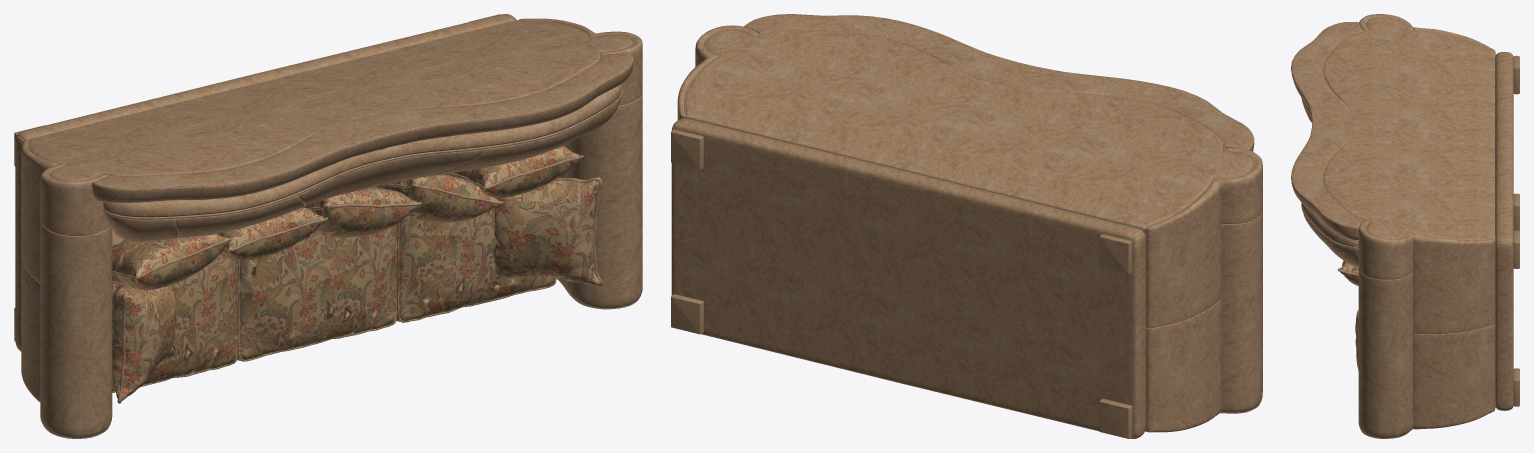
The model's file is sofa.obj.
3 views of the same model, side by side, from view 1: azimuth 30°, elevation 25°; view 2: azimuth 150°, elevation 25°; view 3: azimuth 270°, elevation 25° (orthographic). The views are drawn at different scales.
Visible parts, largest first — view 1: Box027, Box023, Box022, Object130, Box025, Object125, Object126, Object128, Object129, Box029, Object127; view 2: Box027, Box021, Box018, Box019, Box020; view 3: Box027, Box029, Box019, Box020, Box021, Box018.
Part boxes in pixels (box(x1,y1,x2,y2)): Box027: box(15, 14, 642, 438); Box023: box(237, 224, 397, 361); Box022: box(396, 208, 556, 322); Object130: box(493, 178, 600, 285); Box025: box(112, 231, 238, 392); Object125: box(112, 284, 177, 401); Object126: box(112, 234, 229, 290); Object128: box(302, 187, 418, 237); Object129: box(372, 174, 499, 223); Box029: box(444, 146, 580, 198); Object127: box(218, 207, 325, 260); Box027: box(671, 14, 1262, 438); Box021: box(1099, 234, 1132, 273); Box018: box(1099, 398, 1132, 438); Box019: box(671, 294, 703, 334); Box020: box(671, 129, 703, 169); Box027: box(1291, 14, 1513, 438); Box029: box(1340, 261, 1358, 285); Box019: box(1513, 368, 1519, 406); Box020: box(1513, 230, 1519, 268); Box021: box(1513, 55, 1519, 94); Box018: box(1513, 193, 1519, 230).
Bounding box in the file's own units: 2197 × 940 × 935.
